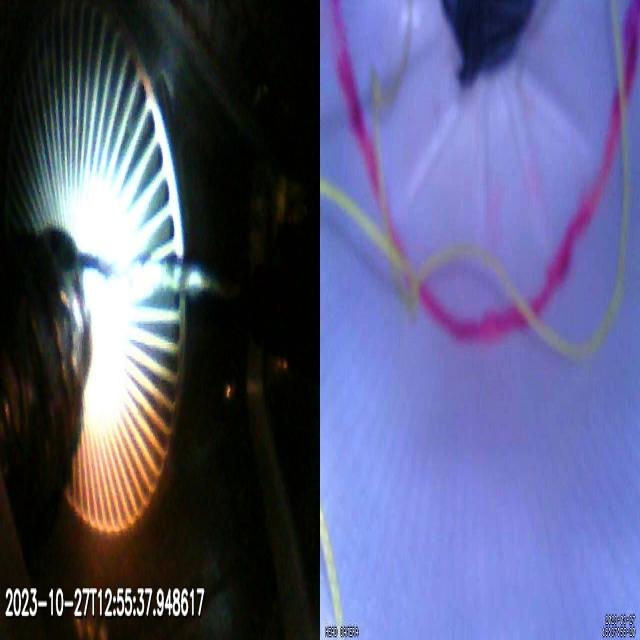red-circle: (330, 0, 639, 347)
